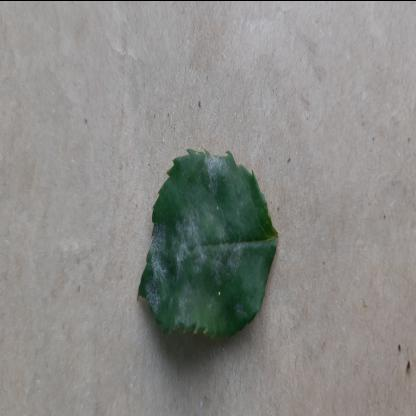powdery-mildew: (136, 140, 277, 348)
